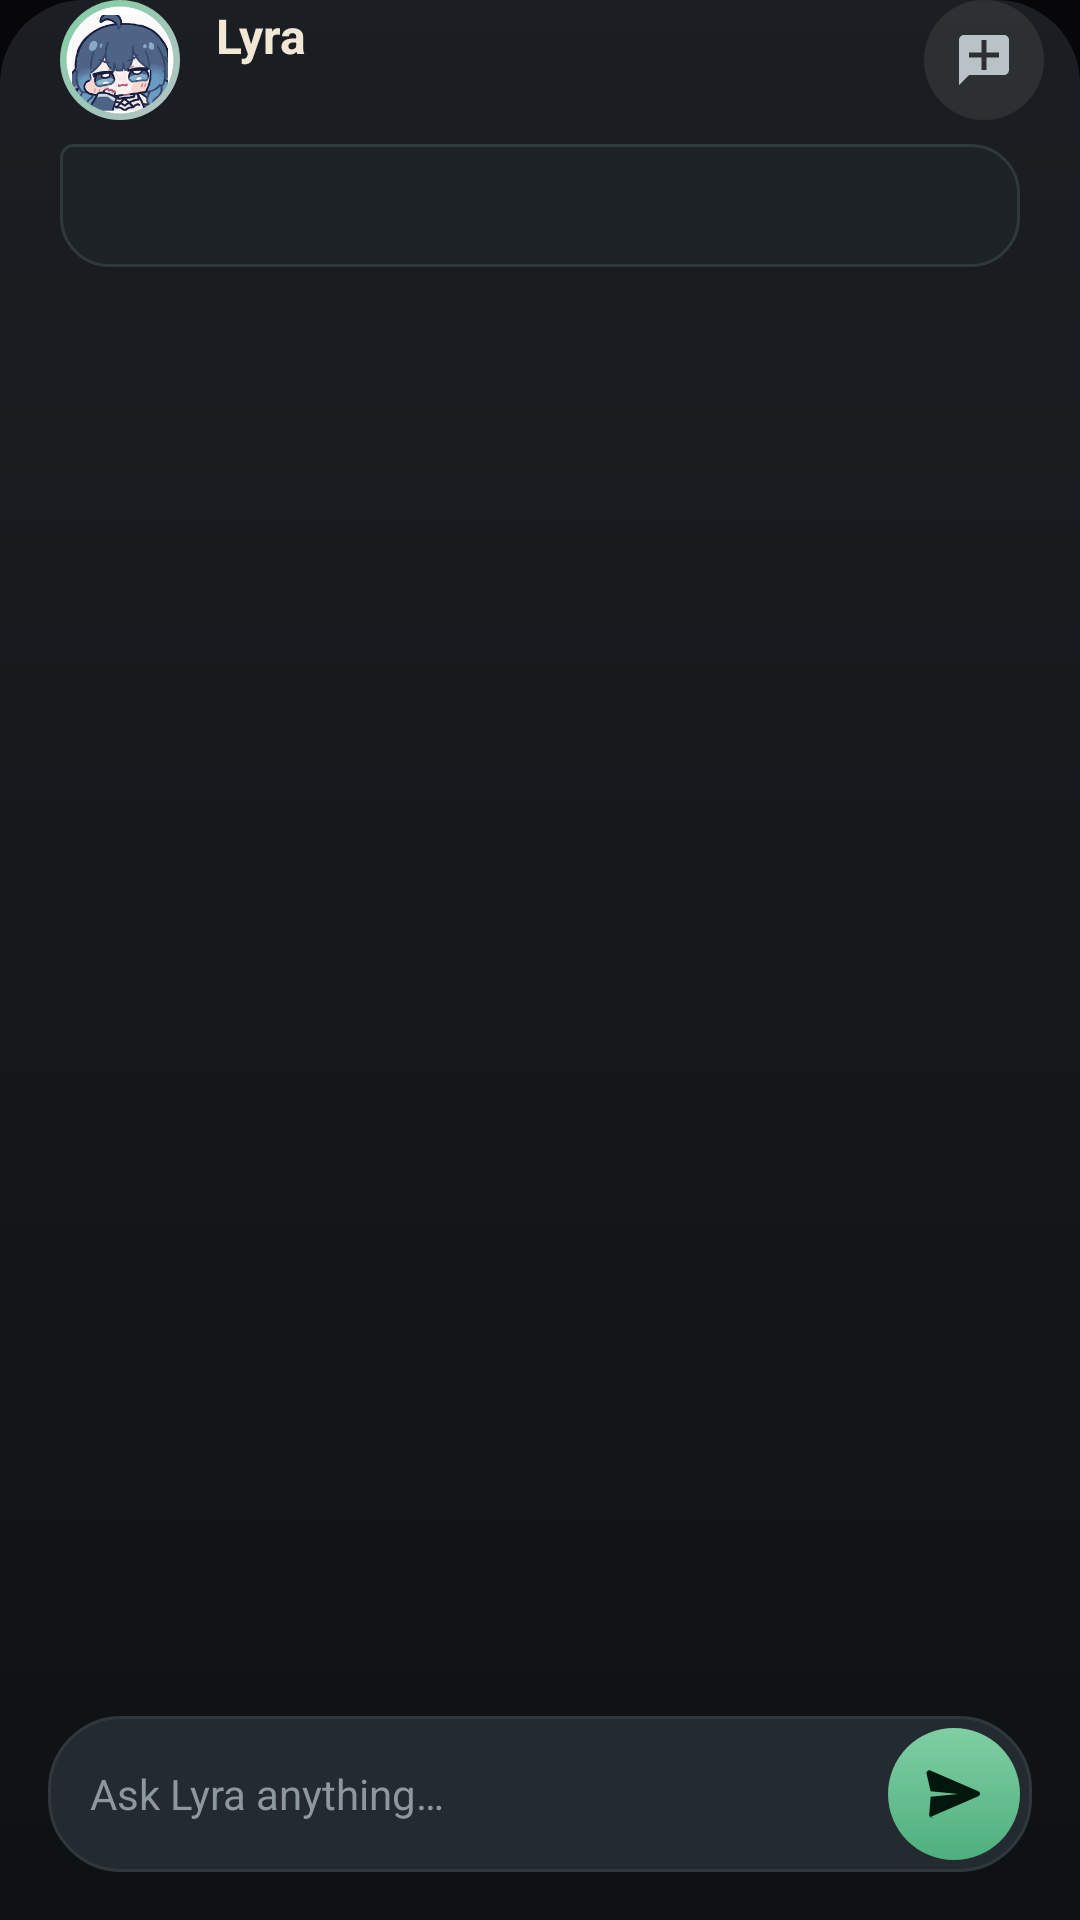

Where to tap for icons on this 1080 x 1920 app screen, as [x,y]:
New Chat: [984,60]
Send: [954,1794]
